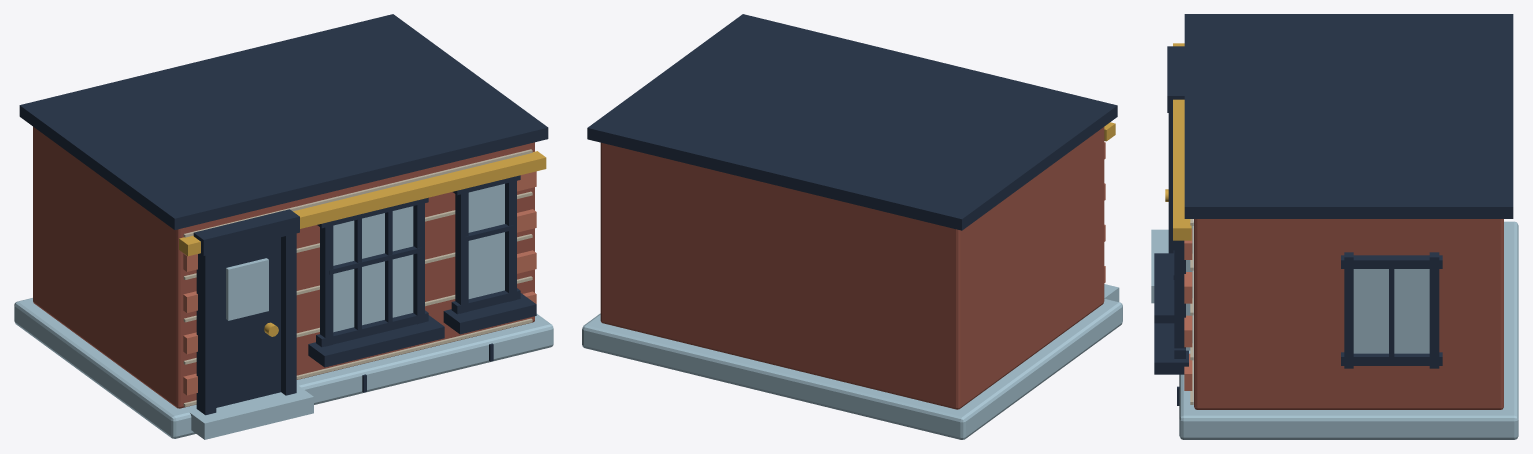
The model's file is base_house_works_2.glb.
The picture shows the model from 3 angles, left to right: view 1: azimuth 30°, elevation 25°; view 2: azimuth 150°, elevation 25°; view 3: azimuth 270°, elevation 25°; orthographic projection. The views are drawn at different scales.
Visible parts, largest first — view 1: base_house_works_2 ink, base_house_works_2 brick, base_house_works_2 mist, base_house_works_2 glass, base_house_works_2 ochre, base_house_works_2 mortar, base_house_works_2 clay; view 2: base_house_works_2 brick, base_house_works_2 ink, base_house_works_2 mist; view 3: base_house_works_2 ink, base_house_works_2 brick, base_house_works_2 mist, base_house_works_2 glass, base_house_works_2 ochre, base_house_works_2 clay, base_house_works_2 mortar.
Boxes of the visible parts, x1,y1,x2,y2 form: base_house_works_2 ink: (19,14,548,415); base_house_works_2 brick: (33,126,534,408); base_house_works_2 mist: (14,298,553,439); base_house_works_2 glass: (226,183,504,332); base_house_works_2 ochre: (179,151,546,336); base_house_works_2 mortar: (183,149,532,406); base_house_works_2 clay: (183,171,536,395); base_house_works_2 brick: (600,127,1104,409); base_house_works_2 ink: (587,14,1117,230); base_house_works_2 mist: (582,284,1122,439); base_house_works_2 ink: (1154,14,1513,405); base_house_works_2 brick: (1194,219,1503,409); base_house_works_2 mist: (1151,221,1518,439); base_house_works_2 glass: (1186,226,1429,353); base_house_works_2 ochre: (1165,43,1191,240); base_house_works_2 clay: (1184,229,1192,390); base_house_works_2 mortar: (1190,219,1193,404).
Bounding box in the file's own units: 0.8845 × 0.48 × 0.6875.
